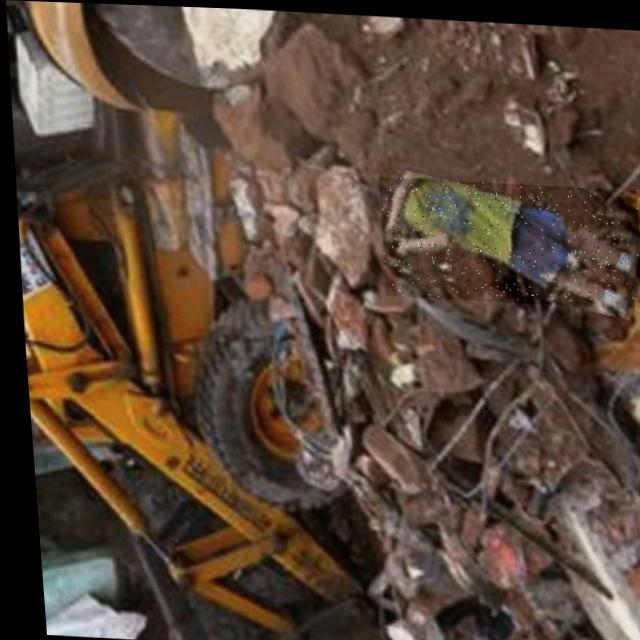Person in Rubble: (374, 173, 640, 303)
